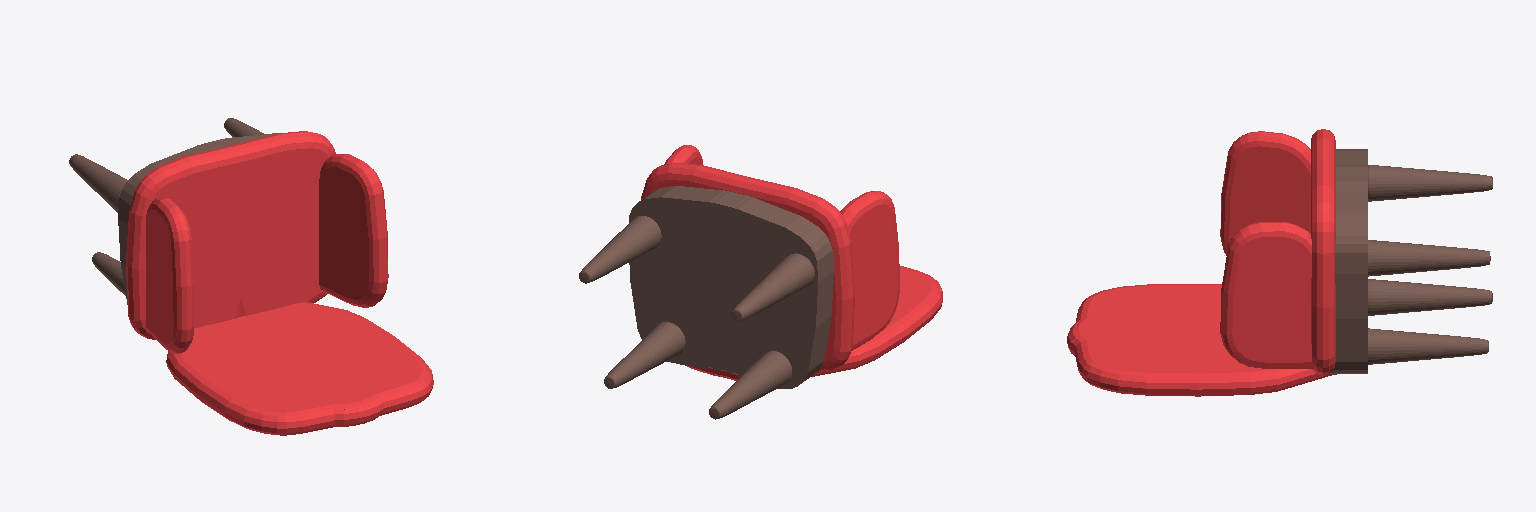
Rendered from Chair6.obj.
The picture shows the model from 3 angles: view 1: azimuth 30°, elevation 25°; view 2: azimuth 150°, elevation 25°; view 3: azimuth 270°, elevation 25°; orthographic projection.
Parts seen in each view (by area): view 1: s0006.8792, s0000.1292, s0007.0857, s0008.5873, s0001.0602, s0005.3035, s0003.3480; view 2: s0001.0602, s0006.8792, s0008.5873, s0000.1292, s0005.3035, s0003.3480, s0004.8526, s0002.3305; view 3: s0000.1292, s0007.0857, s0008.5873, s0001.0602, s0006.8792, s0005.3035, s0003.3480, s0004.8526, s0002.3305.
Part boxes in pixels (left/top/right/bottom): s0006.8792: left=126, top=131, right=335, bottom=339; s0000.1292: left=166, top=302, right=433, bottom=435; s0007.0857: left=319, top=154, right=388, bottom=307; s0008.5873: left=146, top=197, right=193, bottom=353; s0001.0602: left=118, top=133, right=277, bottom=304; s0005.3035: left=69, top=154, right=127, bottom=212; s0003.3480: left=92, top=252, right=125, bottom=295; s0001.0602: left=629, top=186, right=833, bottom=388; s0006.8792: left=641, top=163, right=854, bottom=372; s0008.5873: left=840, top=191, right=899, bottom=350; s0000.1292: left=687, top=266, right=942, bottom=380; s0005.3035: left=731, top=253, right=814, bottom=321; s0003.3480: left=709, top=351, right=791, bottom=419; s0004.8526: left=579, top=216, right=661, bottom=283; s0002.3305: left=604, top=322, right=685, bottom=388; s0000.1292: left=1067, top=284, right=1336, bottom=396; s0007.0857: left=1220, top=222, right=1313, bottom=368; s0008.5873: left=1220, top=131, right=1310, bottom=255; s0001.0602: left=1330, top=149, right=1367, bottom=373; s0006.8792: left=1311, top=129, right=1335, bottom=375; s0005.3035: left=1368, top=165, right=1492, bottom=201; s0003.3480: left=1368, top=279, right=1492, bottom=315; s0004.8526: left=1368, top=240, right=1490, bottom=276; s0002.3305: left=1368, top=328, right=1488, bottom=364.
Bounding box in the file's own units: 2.28 × 1.93 × 3.94.